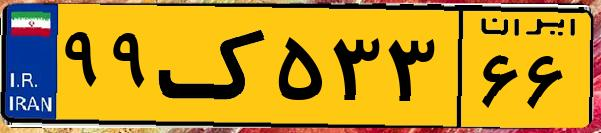3: (385, 28, 445, 110), (330, 28, 385, 110)
5: (270, 28, 330, 110)
6: (475, 38, 525, 113), (525, 38, 570, 115)
9: (57, 26, 110, 100), (110, 28, 158, 98)
ک: (158, 12, 270, 120)
